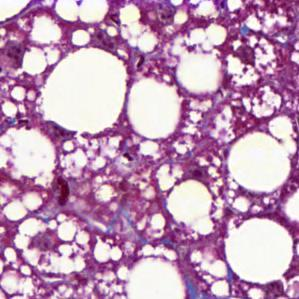steatosis: (41, 49, 125, 134), (225, 132, 293, 191), (125, 78, 181, 140)
